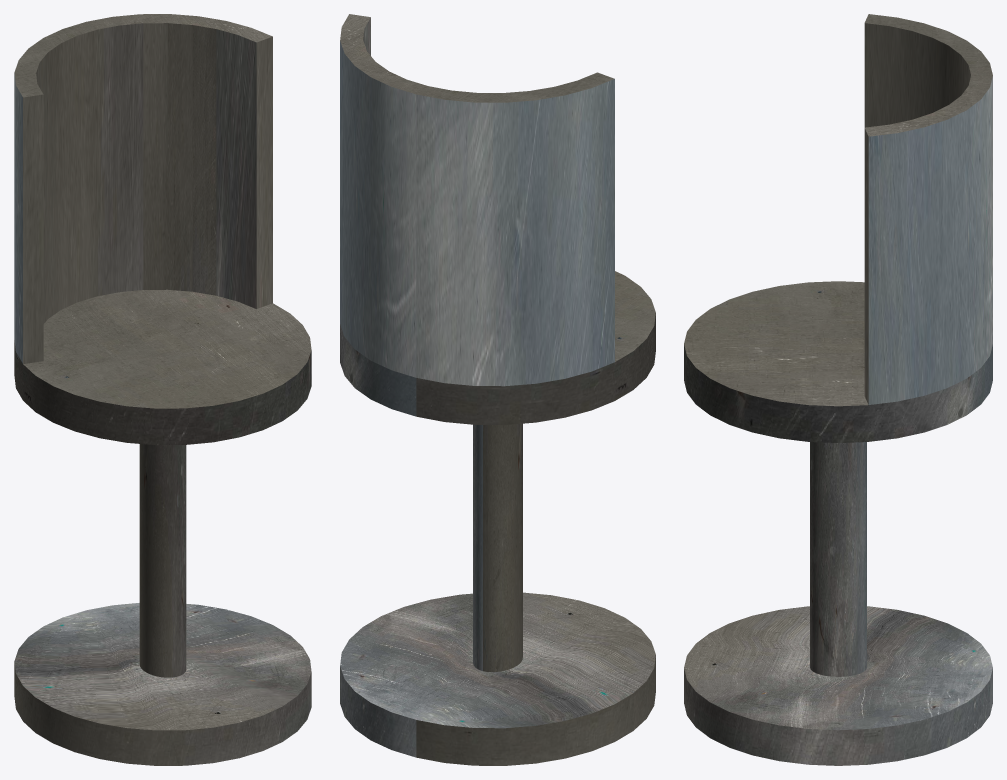
Rendered from SillaModel.fbx.
The picture shows the model from 3 angles, left to right: view 1: azimuth 30°, elevation 25°; view 2: azimuth 150°, elevation 25°; view 3: azimuth 270°, elevation 25°; orthographic projection. The views are drawn at different scales.
Parts seen in each view (by area): view 1: SillaNormal; view 2: SillaNormal; view 3: SillaNormal.
Part boxes in pixels (bbox=[...]): SillaNormal: bbox=[14, 14, 311, 765]; SillaNormal: bbox=[340, 14, 655, 765]; SillaNormal: bbox=[684, 14, 992, 765].
Size of the model in its own units: 299 by 699 by 312.
